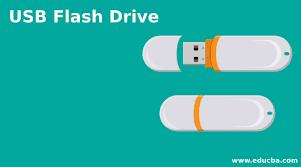Flash-drive: (142, 29, 301, 76), (156, 84, 286, 134)
